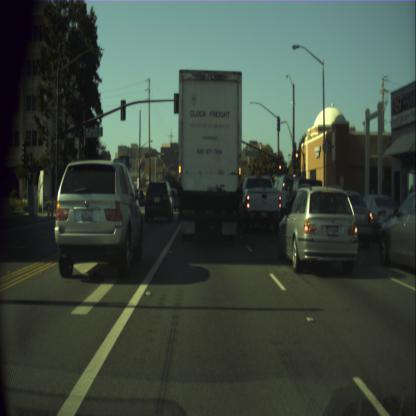Red: (294, 151, 299, 168), (278, 163, 282, 175)
